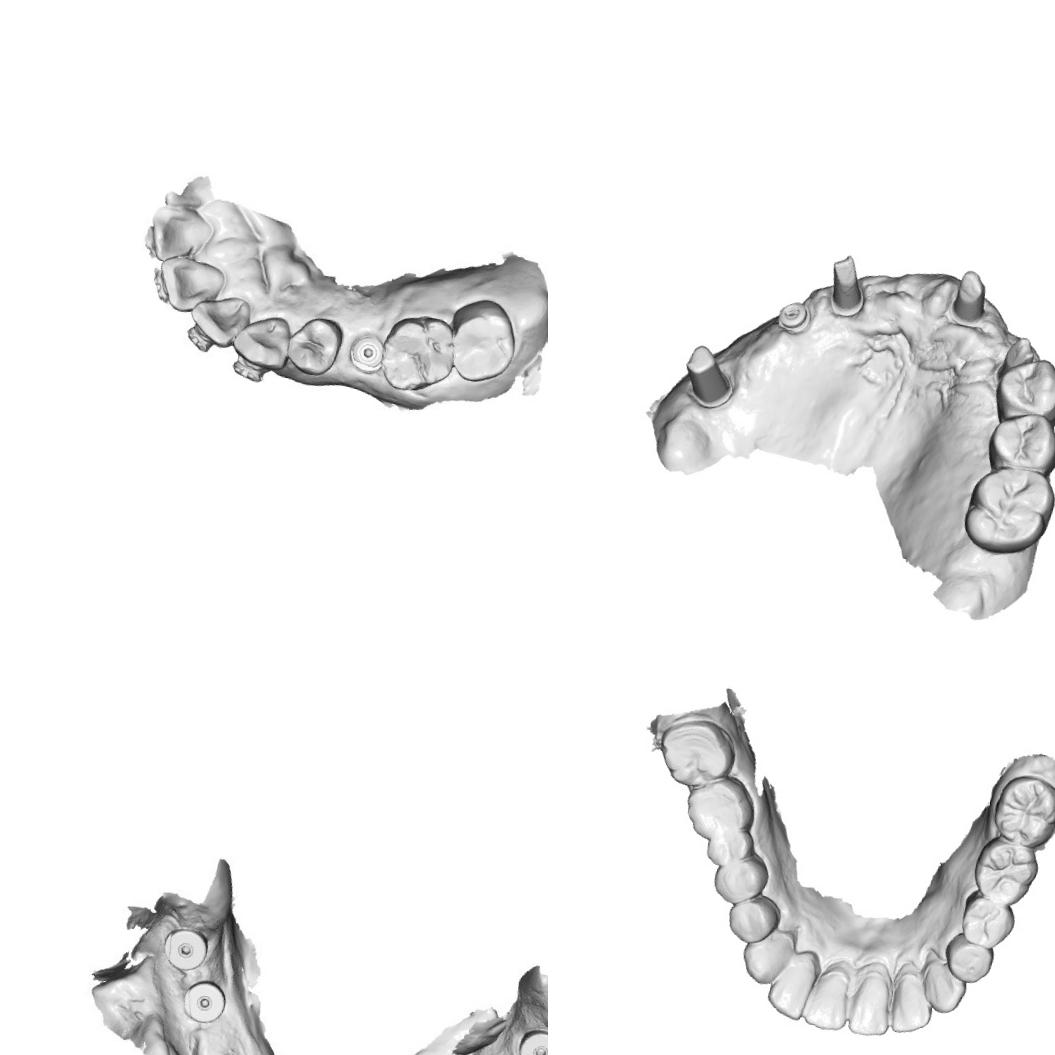abutment: (678, 341, 740, 413), (824, 252, 872, 321), (946, 266, 993, 330), (997, 331, 1038, 380)
canine: (231, 306, 297, 374), (738, 924, 796, 988), (917, 960, 970, 1016)
implant: (160, 924, 210, 974), (182, 978, 226, 1022), (347, 333, 385, 374), (514, 1022, 548, 1055)
implant_minus: (774, 298, 814, 338)
incisor: (146, 200, 215, 268), (799, 955, 856, 1034), (845, 957, 899, 1039), (764, 944, 820, 1022), (884, 962, 939, 1038), (158, 256, 229, 314), (190, 293, 252, 356)
molar: (957, 458, 1055, 562), (654, 713, 740, 794), (379, 314, 458, 395), (681, 770, 760, 846), (450, 298, 520, 383), (969, 832, 1043, 909), (988, 771, 1055, 852)
premolar: (983, 406, 1055, 479), (989, 351, 1055, 427), (709, 846, 772, 909), (958, 888, 1019, 952), (287, 314, 345, 380), (724, 889, 784, 949), (940, 929, 996, 986), (703, 824, 757, 871)
